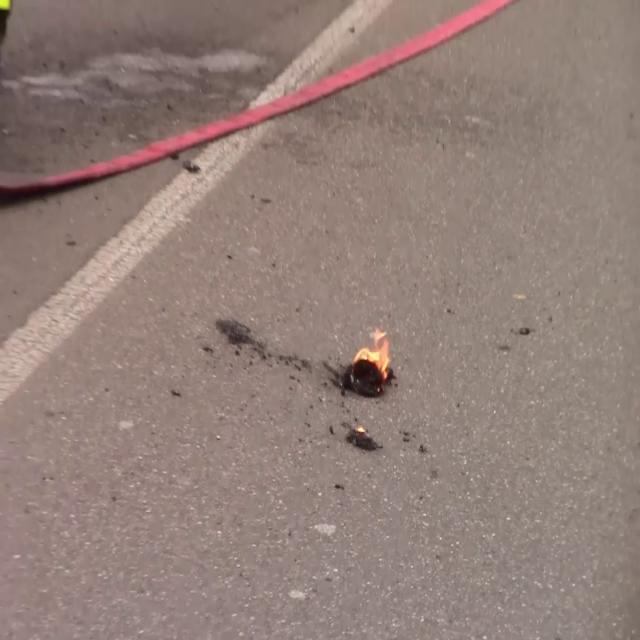Fire: (351, 321, 393, 386)
